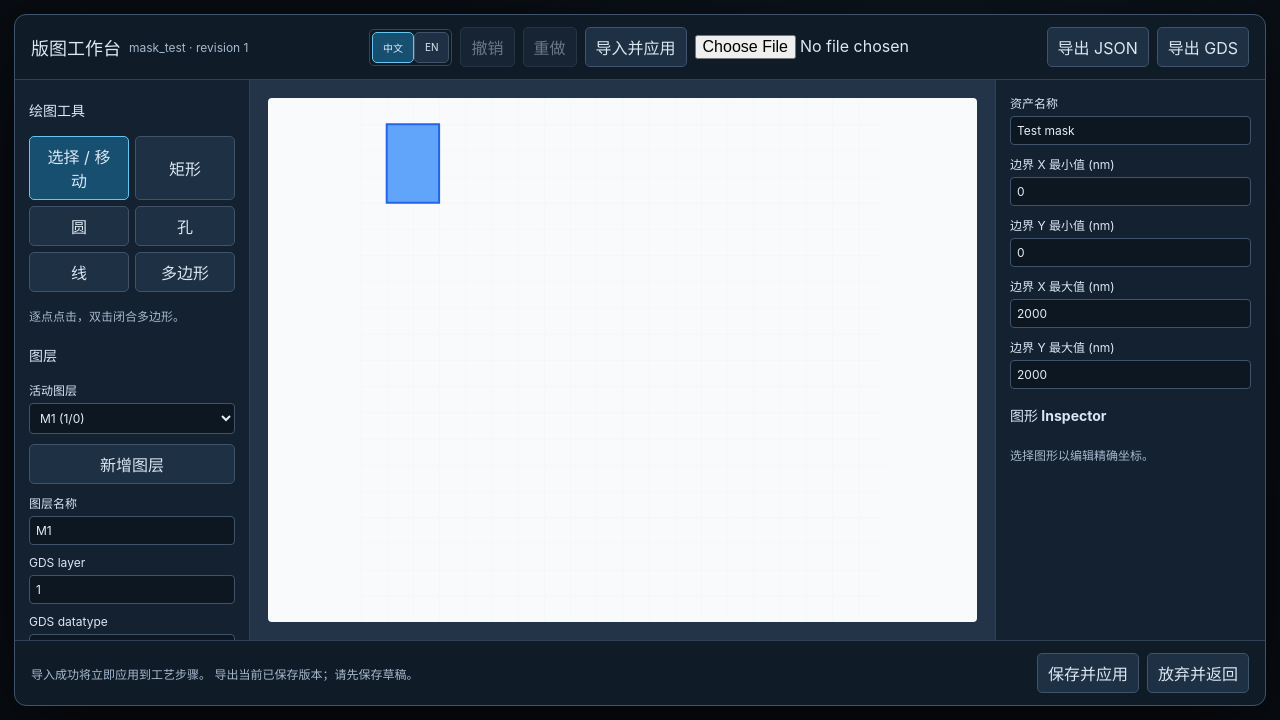
Mask Workbench session › Undo restores canonical field text as well as validity after incomplete input
Replace the text in the field labelled "资产名称" with "Other". click: (1130, 130)
box: top-left (1010, 116), bottom-right (1251, 145)
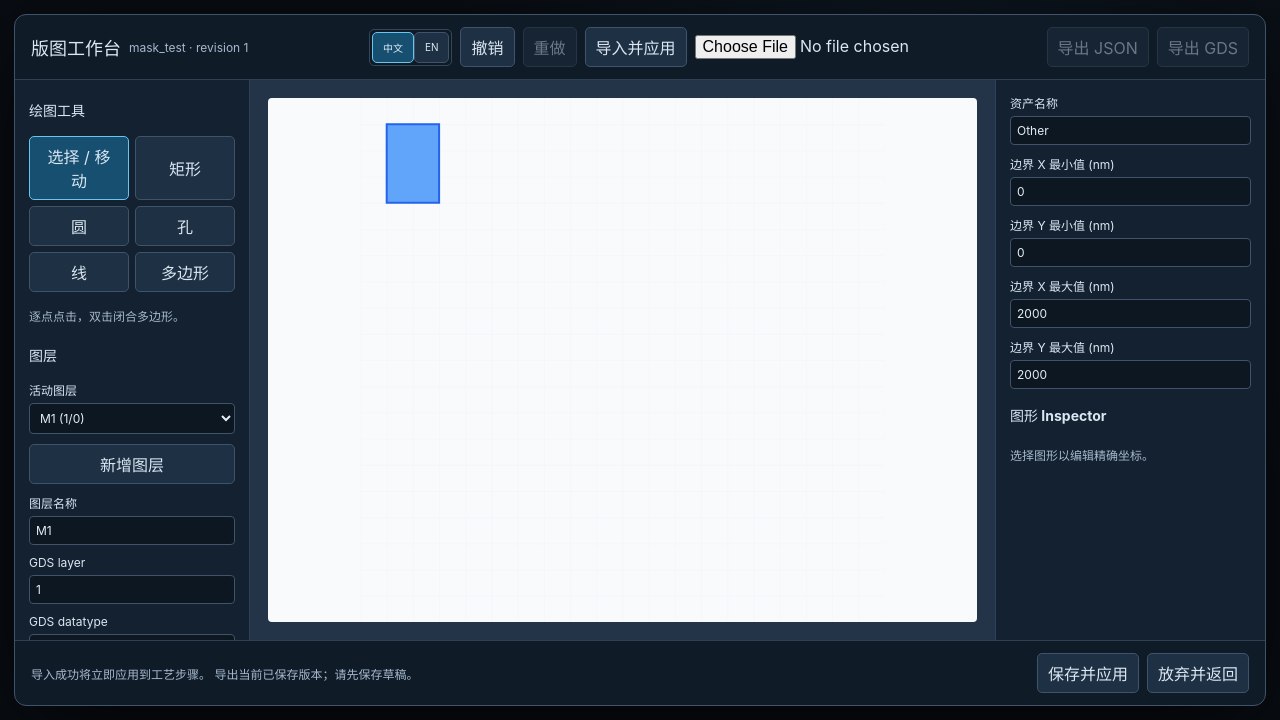
Clear the number field labelled "边界 X 最大值 (nm)". click: (1130, 314)
box: top-left (1010, 299), bottom-right (1251, 328)
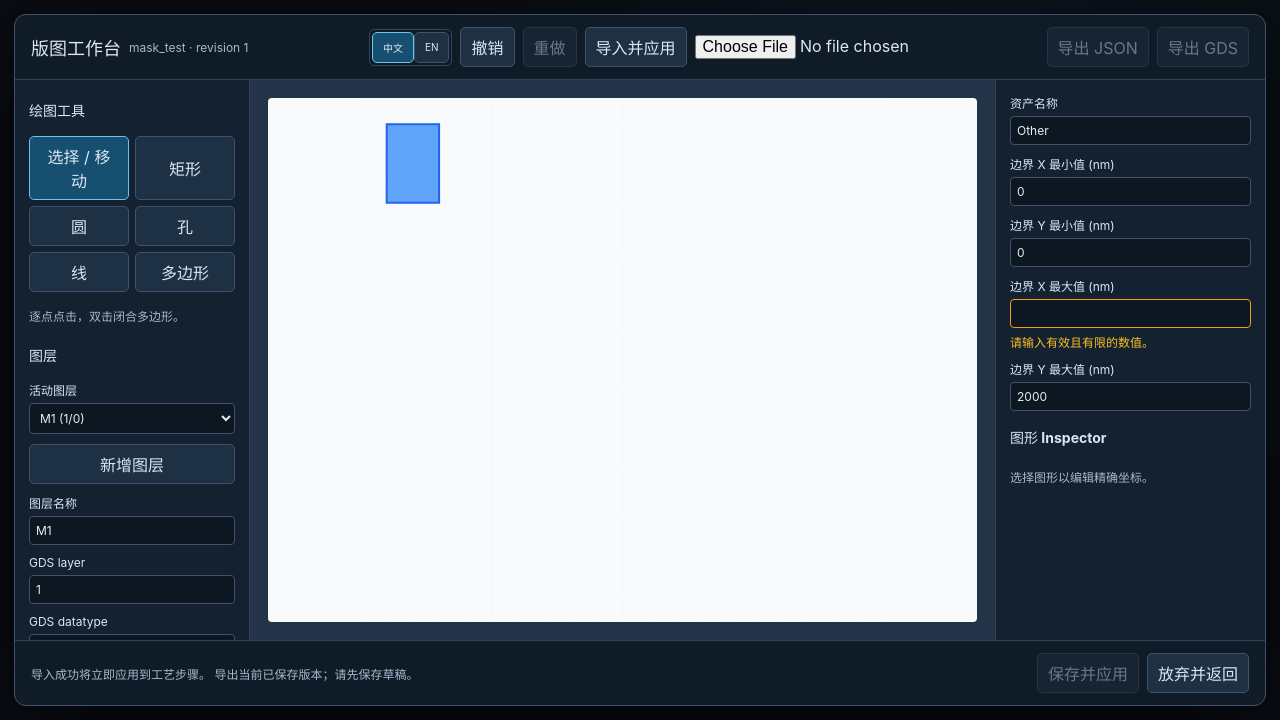
Click the button "撤销". click: (488, 47)
box: top-left (460, 27), bottom-right (514, 67)
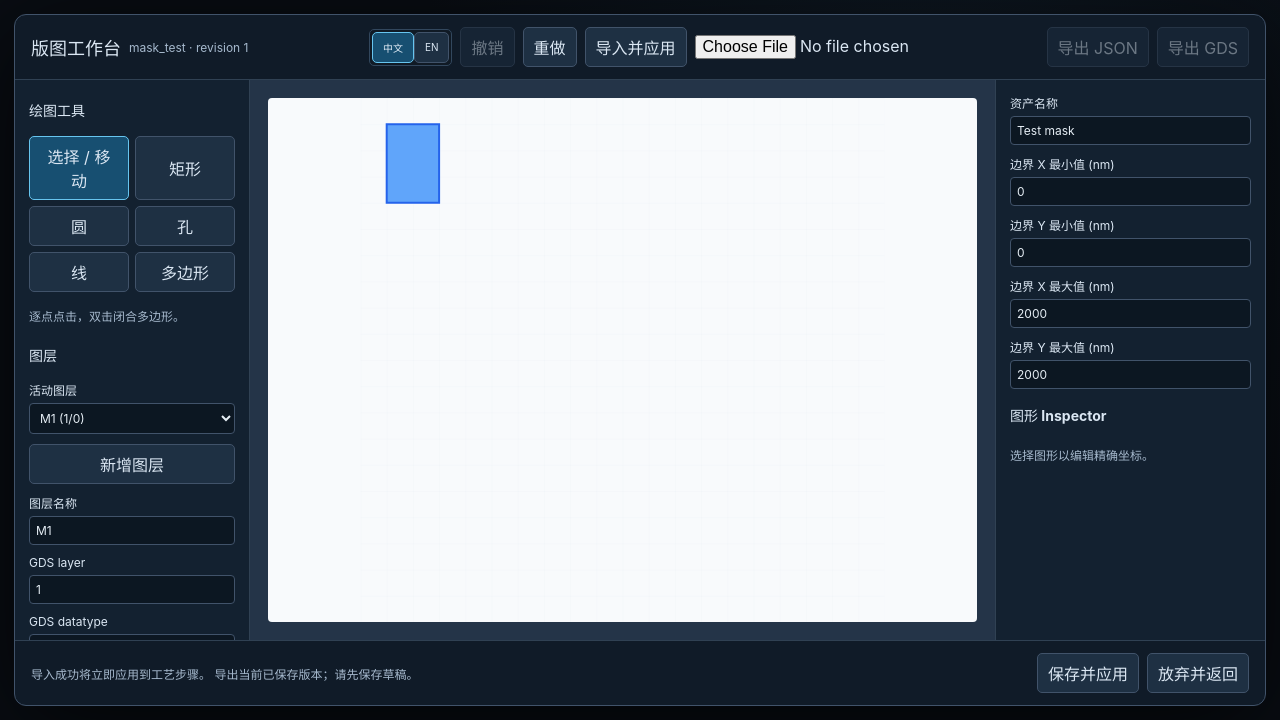
Result: the number field labelled "边界 X 最大值 (nm)" holds "2000" at top-left (1010, 299), bottom-right (1251, 328)
Result: the button "保存并应用" is enabled at top-left (1037, 653), bottom-right (1139, 693)
